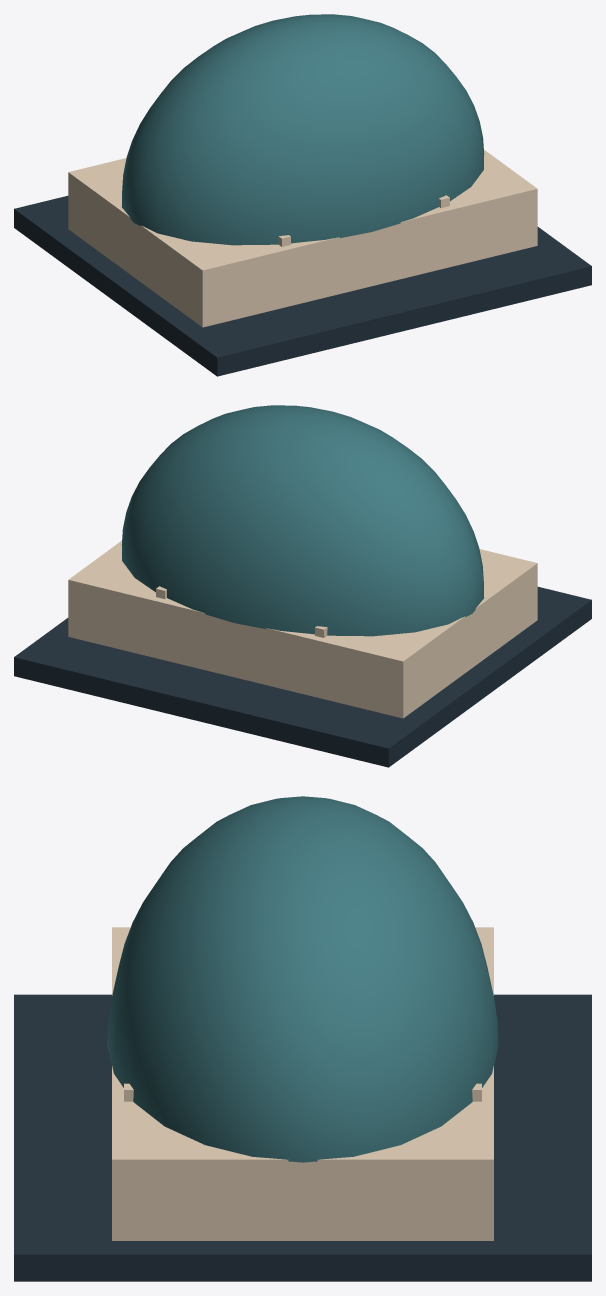
File: greenhouse.glb
3 views of the same model, one above another, from view 1: azimuth 30°, elevation 25°; view 2: azimuth 150°, elevation 25°; view 3: azimuth 270°, elevation 25° (orthographic). The views are drawn at different scales.
Visible parts, largest first — view 1: greenhouse; view 2: greenhouse; view 3: greenhouse.
Part boxes in pixels (left/top/right/bottom): greenhouse: left=14, top=14, right=591, bottom=376; greenhouse: left=14, top=405, right=591, bottom=767; greenhouse: left=14, top=796, right=591, bottom=1281.
Size of the model in its own units: 3.3 by 1.93 by 3.1.
